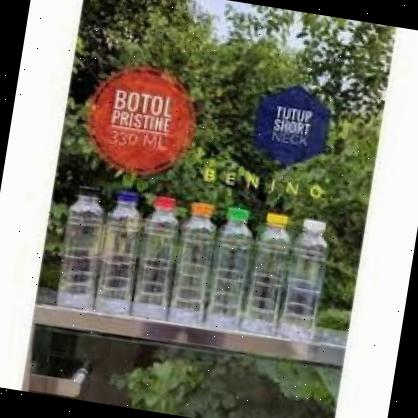bottle: (47, 175, 123, 330), (129, 186, 194, 322), (161, 200, 229, 330), (92, 189, 156, 327), (205, 200, 267, 336), (236, 207, 299, 337), (278, 217, 338, 352)
cap: (68, 180, 104, 207), (260, 208, 292, 236), (300, 214, 329, 242), (149, 194, 181, 218), (114, 186, 144, 211), (184, 202, 214, 224), (222, 205, 250, 224)
